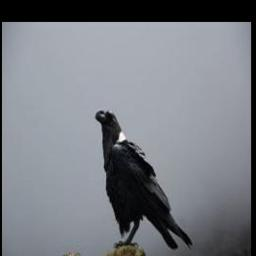Crow: (94, 102, 195, 256)
